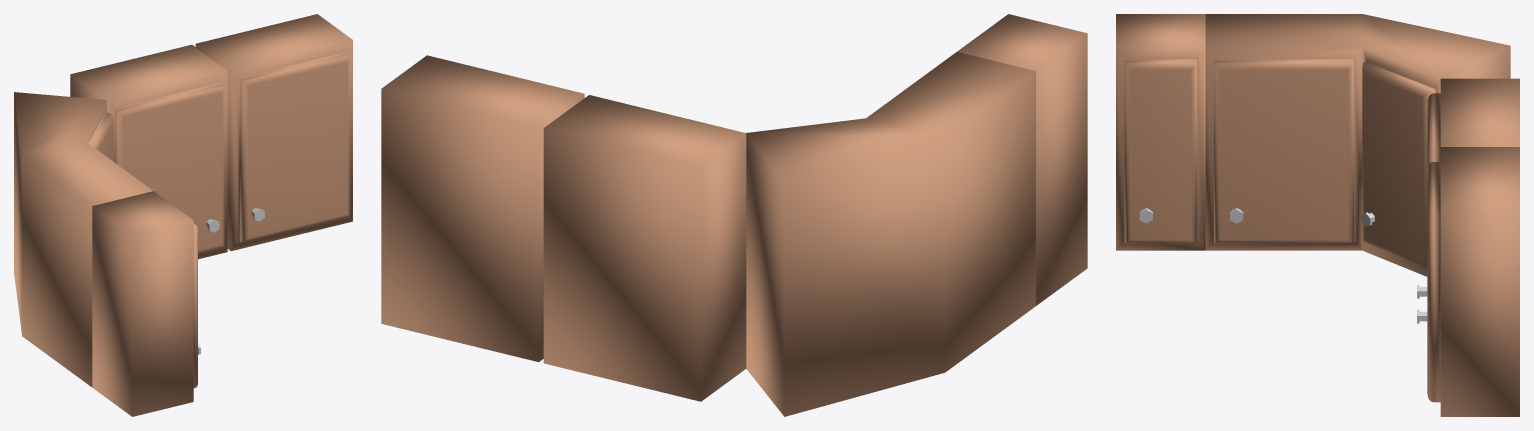
The model's file is CornerCupboard_v1.fbx.
The picture shows the model from 3 angles, left to right: view 1: azimuth 30°, elevation 25°; view 2: azimuth 150°, elevation 25°; view 3: azimuth 270°, elevation 25°; orthographic projection. The views are drawn at different scales.
Parts seen in each view (by area): view 1: Cylinder.001; view 2: Cylinder.001; view 3: Cylinder.001.
Part boxes in pixels (left/top/right/bottom): Cylinder.001: left=14, top=14, right=352, bottom=416; Cylinder.001: left=381, top=14, right=1087, bottom=416; Cylinder.001: left=1116, top=14, right=1519, bottom=416.
Size of the model in its own units: 190 by 90.33 by 163.
